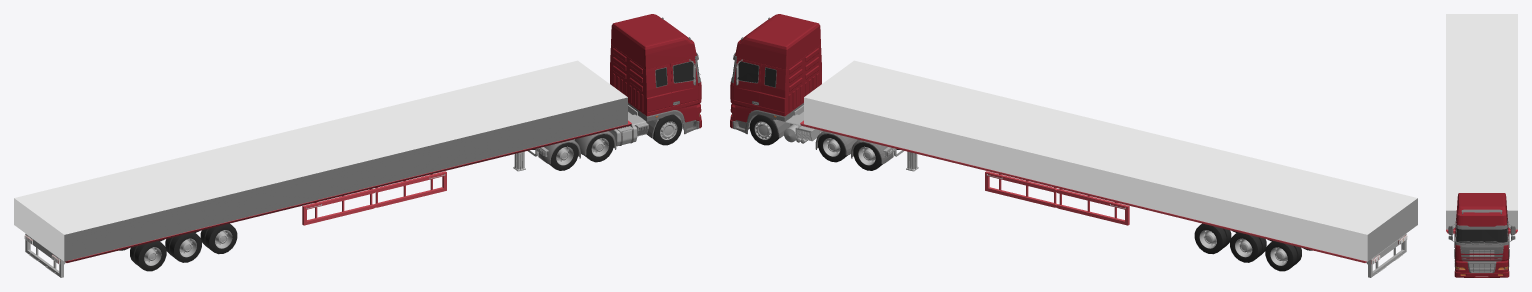
File: sm_cgc_red_xiaoxiang_dm.fbx
3 renders of one model, left to right at view 1: azimuth 30°, elevation 25°; view 2: azimuth 150°, elevation 25°; view 3: azimuth 270°, elevation 25°, orthographic. The views are drawn at different scales.
Visible parts, largest first — view 1: sm_cgc_red_xiaoxiang_dm_no_logo; view 2: sm_cgc_red_xiaoxiang_dm_no_logo; view 3: sm_cgc_red_xiaoxiang_dm_no_logo.
Boxes of the visible parts, bbox=[...] form: sm_cgc_red_xiaoxiang_dm_no_logo: bbox=[14, 14, 701, 277]; sm_cgc_red_xiaoxiang_dm_no_logo: bbox=[730, 14, 1417, 277]; sm_cgc_red_xiaoxiang_dm_no_logo: bbox=[1446, 14, 1517, 277].
Size of the model in its own units: 25.24 by 3.8 by 3.4.
Materials: 1 (1 with a texture image).
